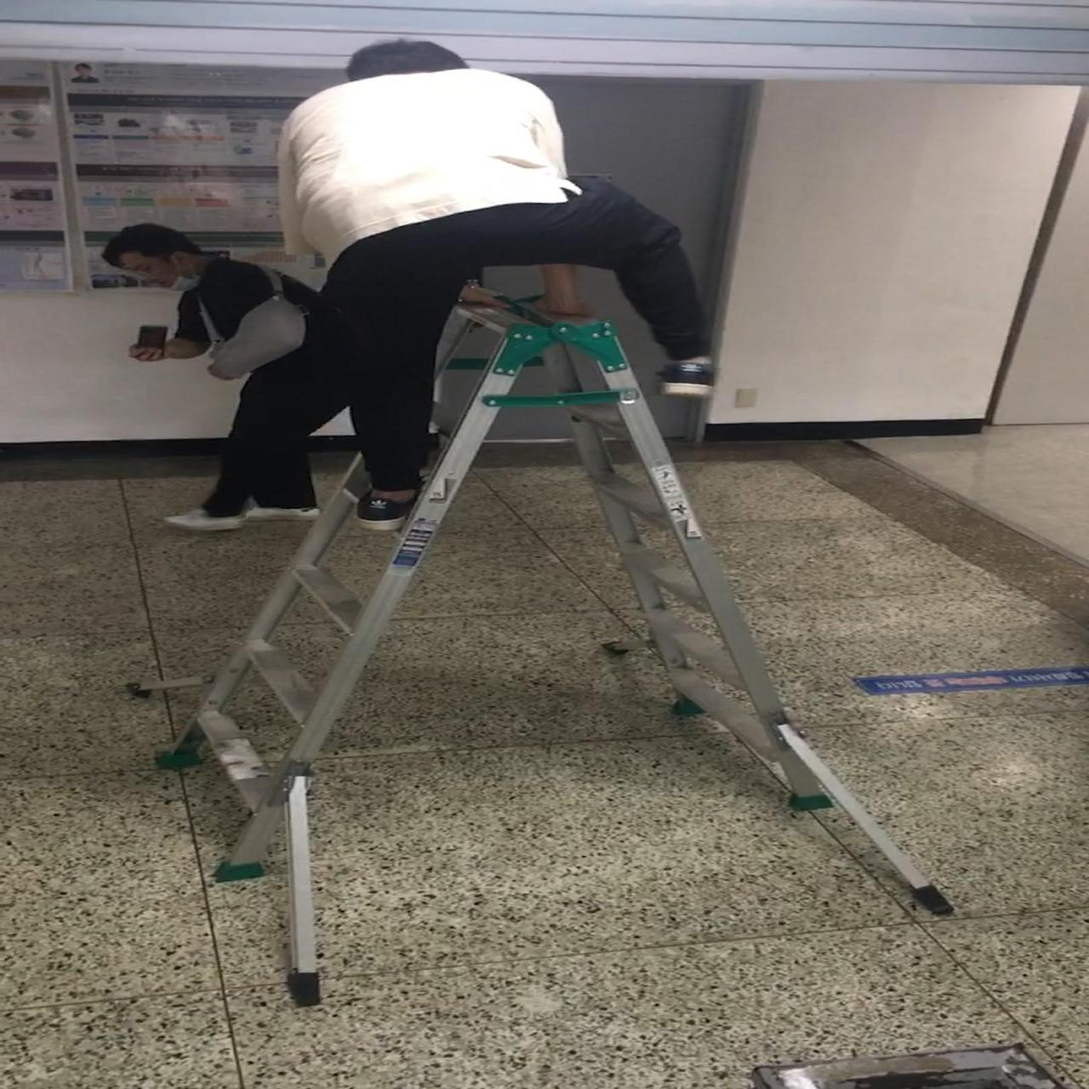NO_Safety_Vest: (285, 70, 550, 221), (207, 265, 321, 381)
Person: (275, 37, 718, 532), (99, 221, 351, 530)
